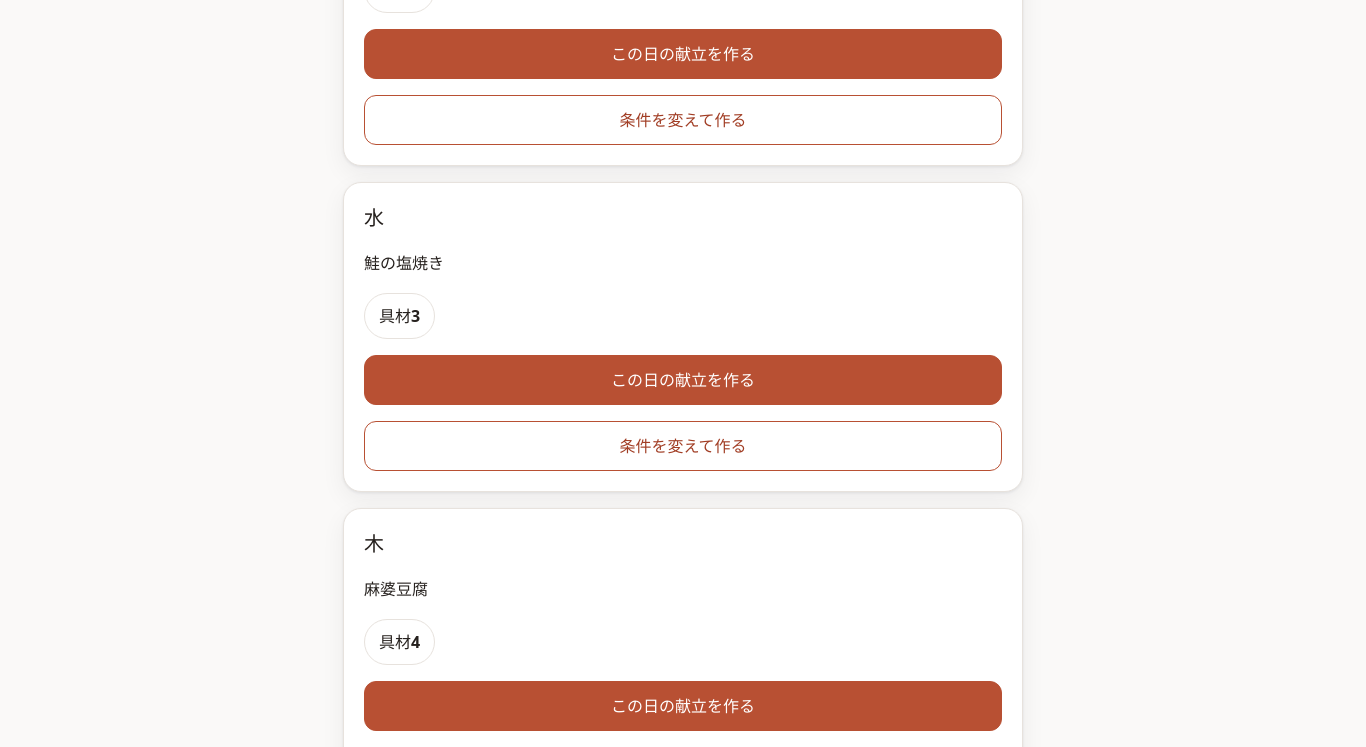
it: WeeklyPlanResultPage › restores focus to the clicked CTA when the overwrite dialog is cancelled
(page scrolled)
Click the button "この日の献立を作る" below "鮭の塩焼き". click: (683, 380)
box: [364,355,1002,405]
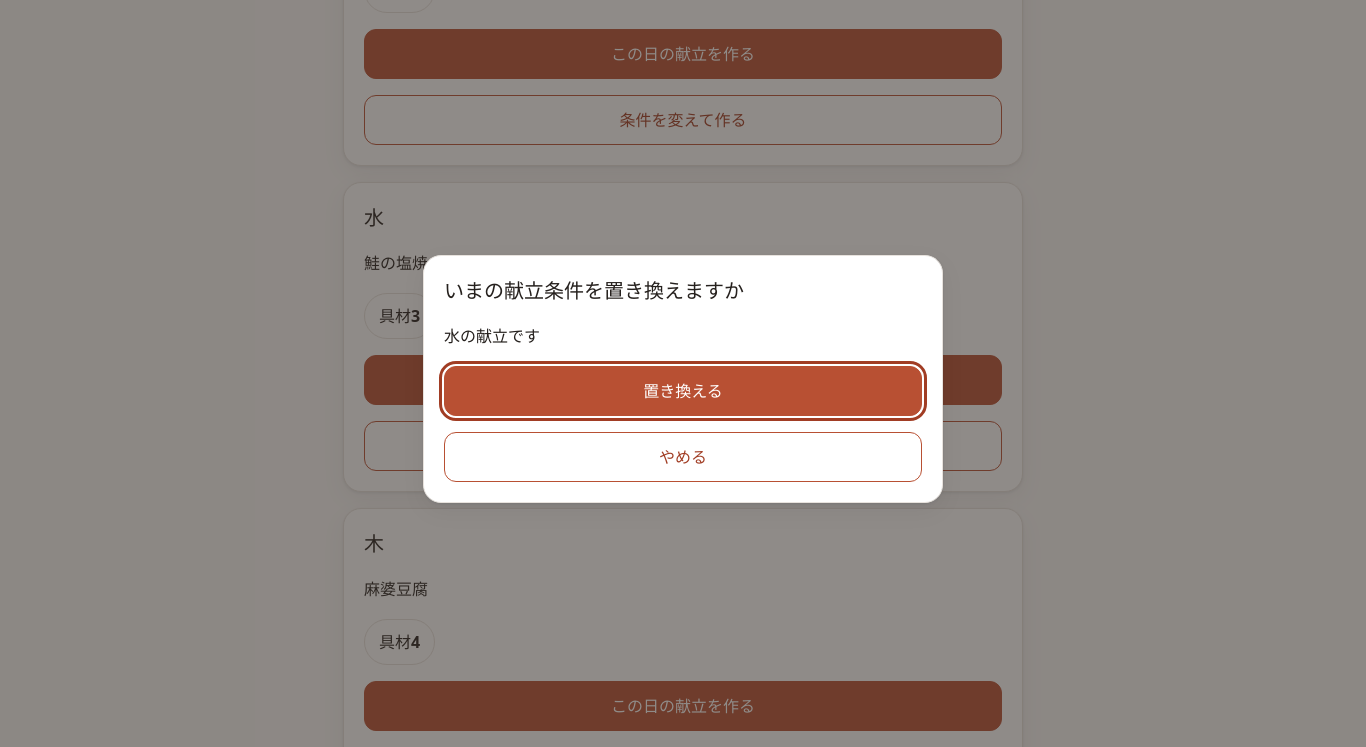
Now the dialog is shown, box [423,255,943,503]
Click the button "やめる". click: (683, 457)
box: [444,432,922,482]
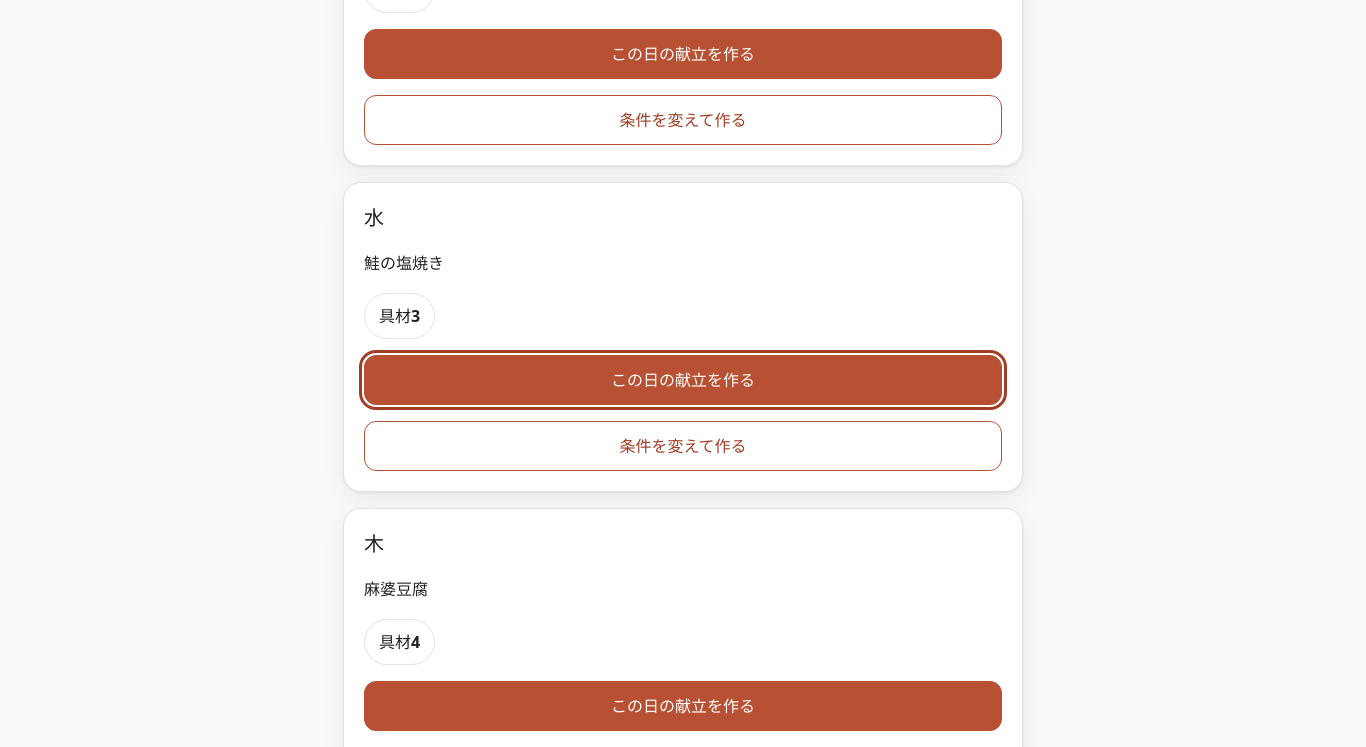
Now the dialog is gone
